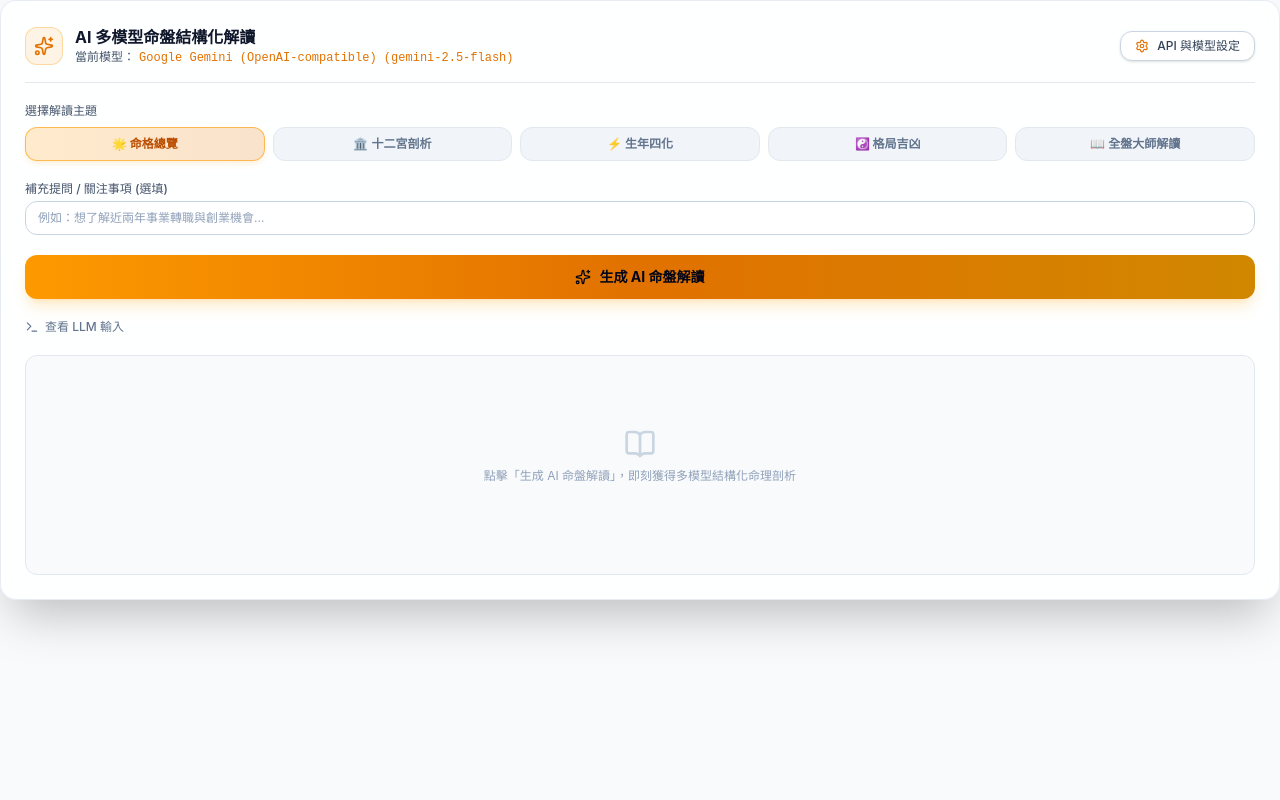
Test: ReadingPanel Component Test Suite › displays error message if start reading without a chart
Click the button "生成 AI 命盤解讀": (640, 277) [25,255,1255,299]
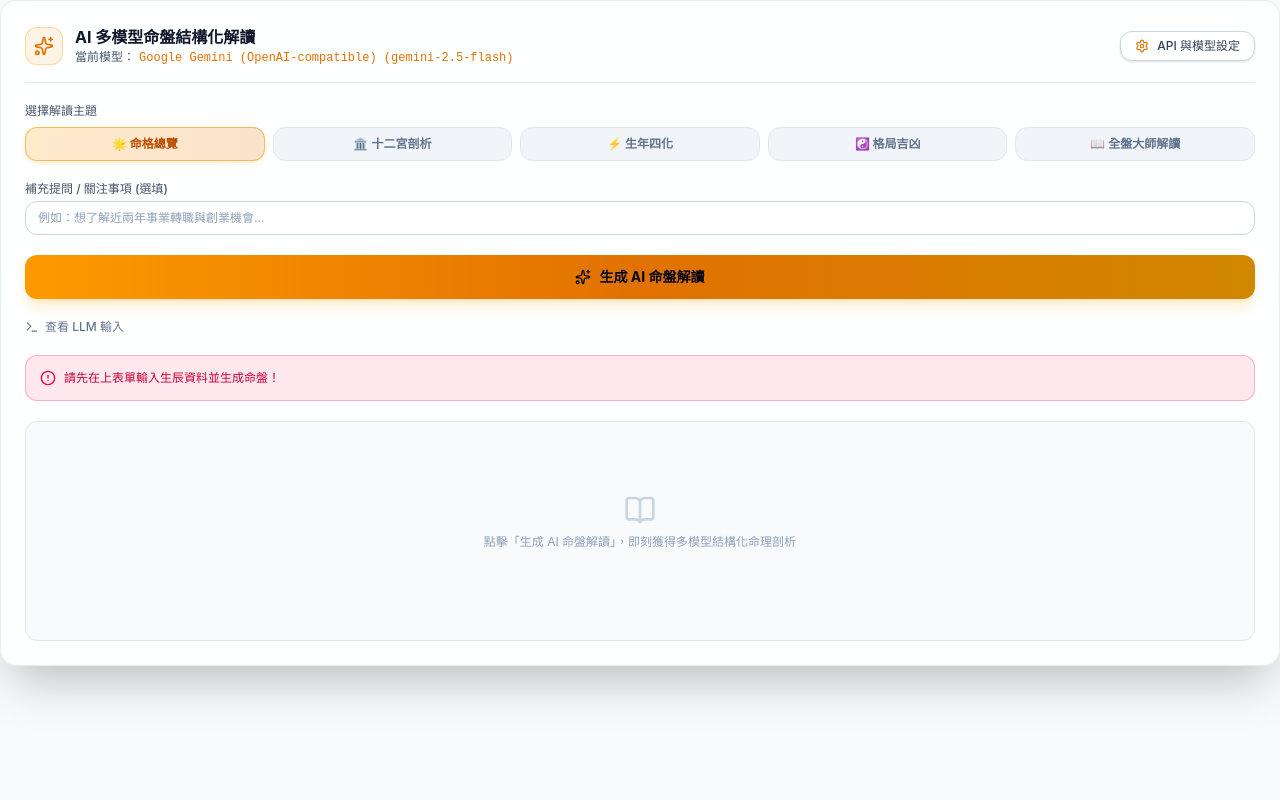
Expected: the text "請先在上表單輸入生辰資料並生成命盤！" is shown, [64,370,280,386]
